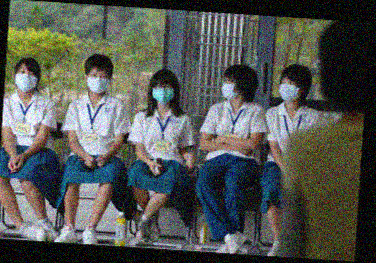with_mask: (14, 67, 36, 93), (277, 78, 299, 103), (151, 83, 174, 106), (86, 70, 108, 94), (220, 78, 238, 101)
